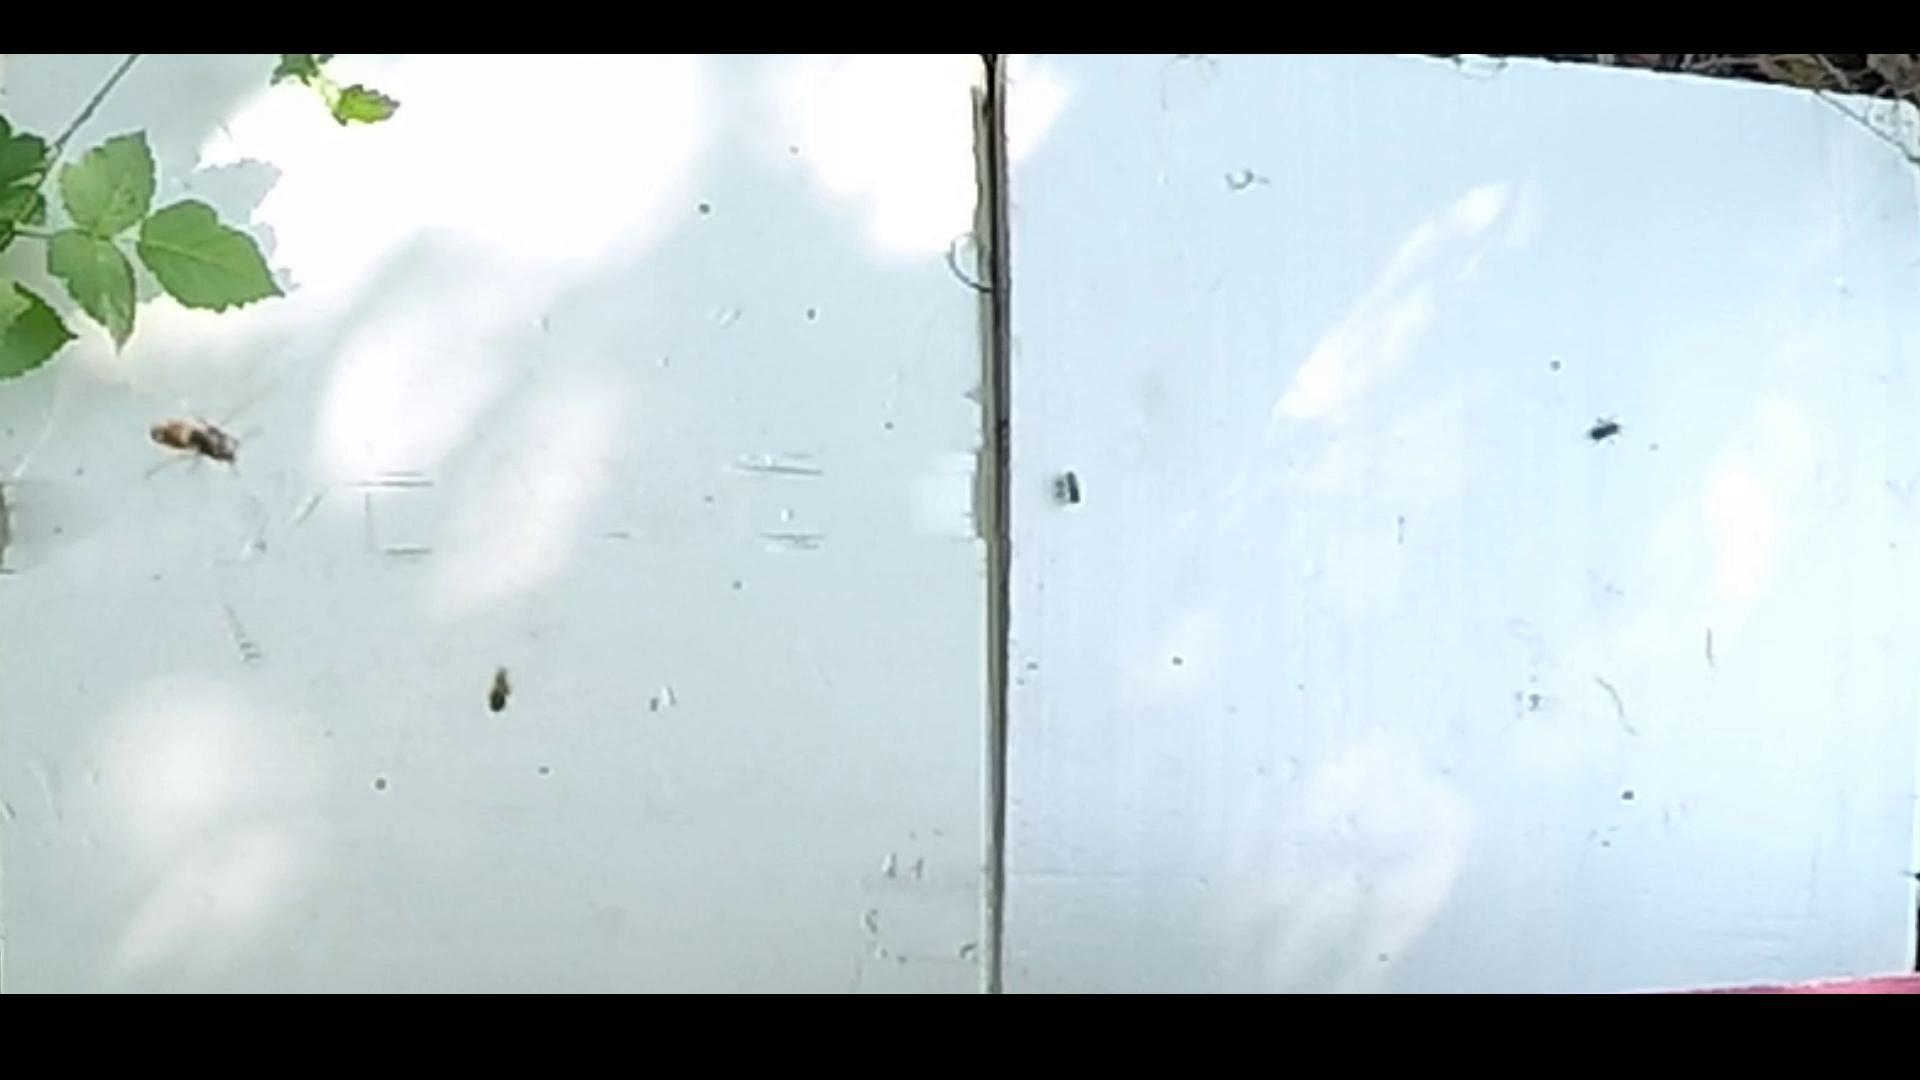Asian_hornets: (131, 367, 280, 510)
